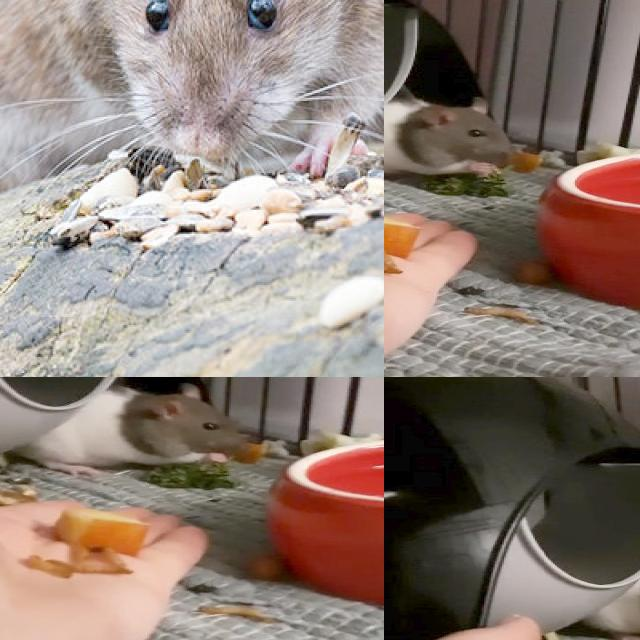rat: (0, 0, 384, 162), (5, 377, 261, 469), (384, 84, 538, 186), (600, 557, 640, 640)
